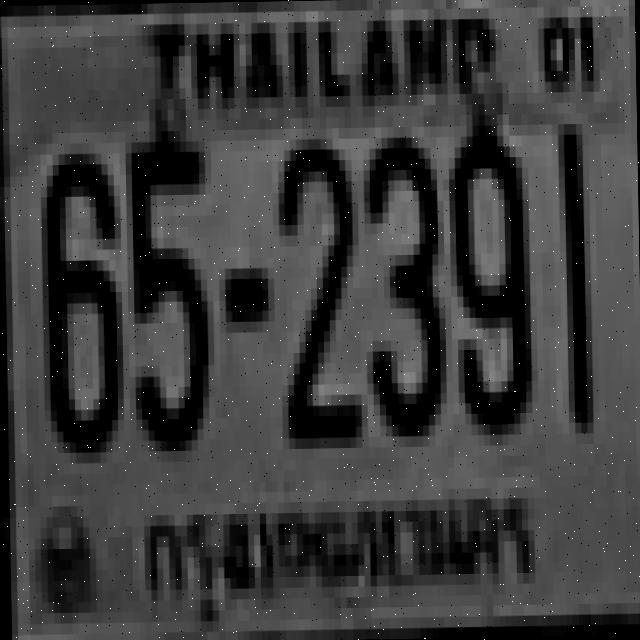1: (554, 118, 590, 428)
2: (278, 132, 356, 444)
3: (363, 131, 441, 431)
5: (128, 119, 206, 451)
6: (40, 142, 118, 442)
9: (444, 113, 528, 424)
Bangkok: (132, 480, 550, 618)
